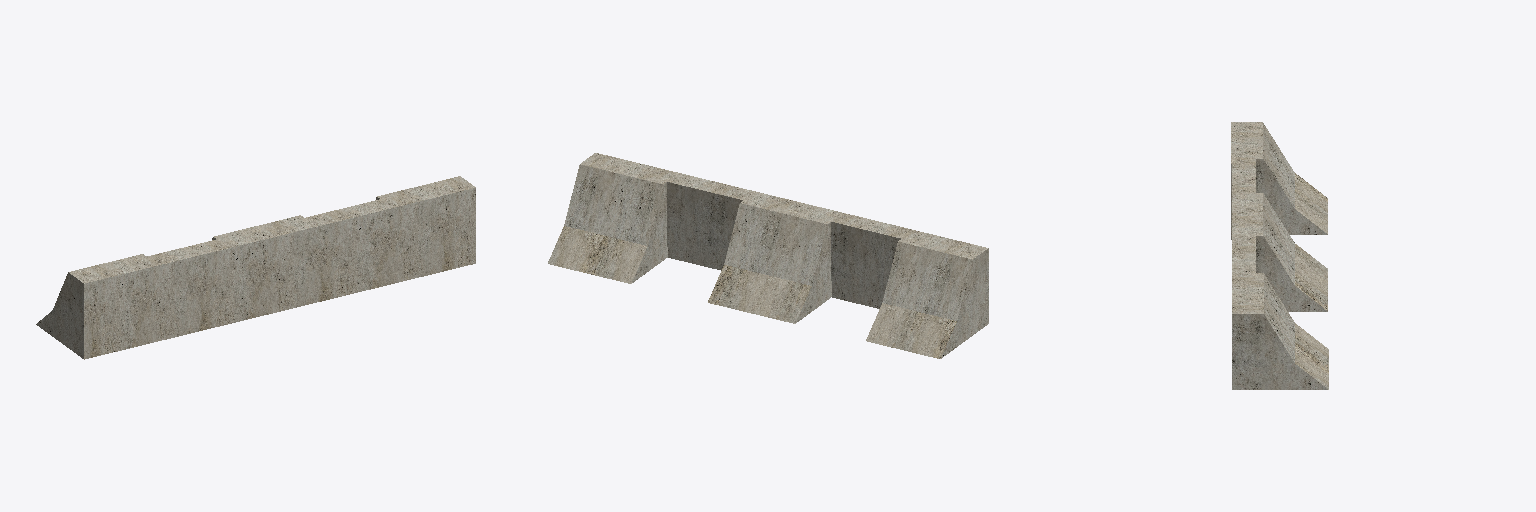
3 views of the same model, side by side, from view 1: azimuth 30°, elevation 25°; view 2: azimuth 150°, elevation 25°; view 3: azimuth 270°, elevation 25° (orthographic).
Parts seen in each view (by area): view 1: check_dam; view 2: check_dam; view 3: check_dam.
Boxes of the visible parts, box(x1,y1,x2,y2) form: check_dam: box(36, 176, 475, 359); check_dam: box(548, 153, 988, 358); check_dam: box(1231, 122, 1328, 389).
Size of the model in its own units: 10.01 by 1.85 by 2.15.
Materials: 1 (1 with a texture image).